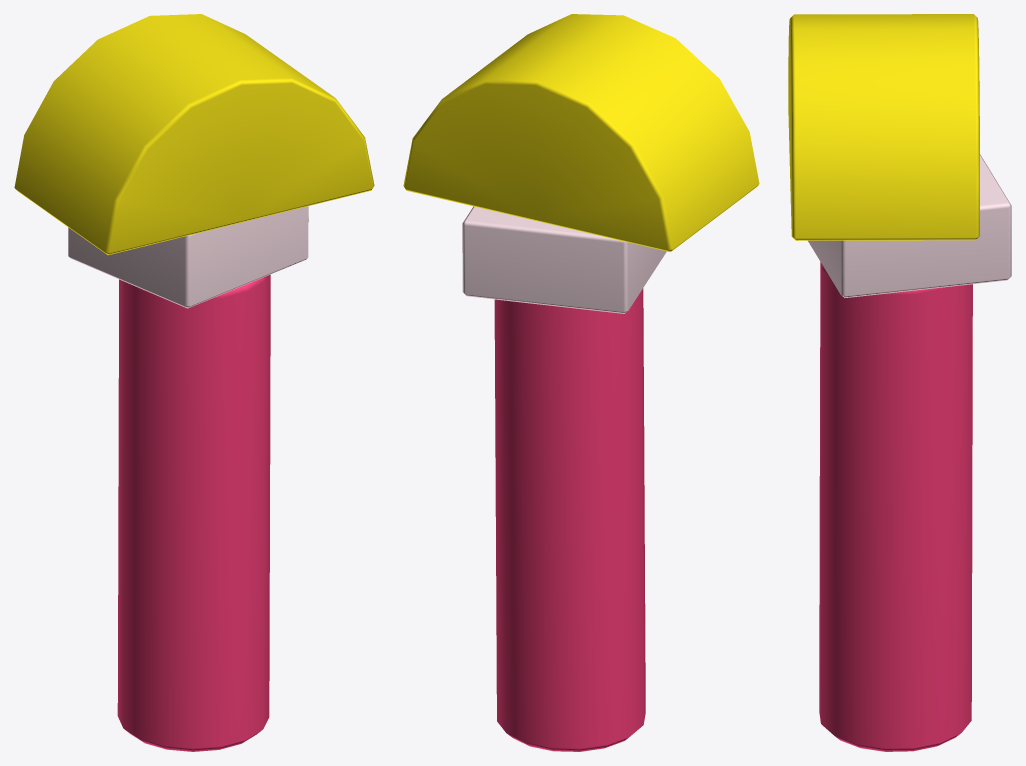
File: Store_9_Toys_set_3.glb
The picture shows the model from 3 angles, left to right: view 1: azimuth 30°, elevation 25°; view 2: azimuth 150°, elevation 25°; view 3: azimuth 270°, elevation 25°; orthographic projection. The views are drawn at different scales.
Parts seen in each view (by area): view 1: Store_9_Toys_set_3; view 2: Store_9_Toys_set_3; view 3: Store_9_Toys_set_3.
Part boxes in pixels (x1,y1,x2,y2): Store_9_Toys_set_3: (14, 14, 374, 751); Store_9_Toys_set_3: (403, 14, 759, 751); Store_9_Toys_set_3: (788, 14, 1011, 751).
Bounding box in the file's own units: 0.1758 × 0.4187 × 0.1226.
Materials: 1 (1 with a texture image).
